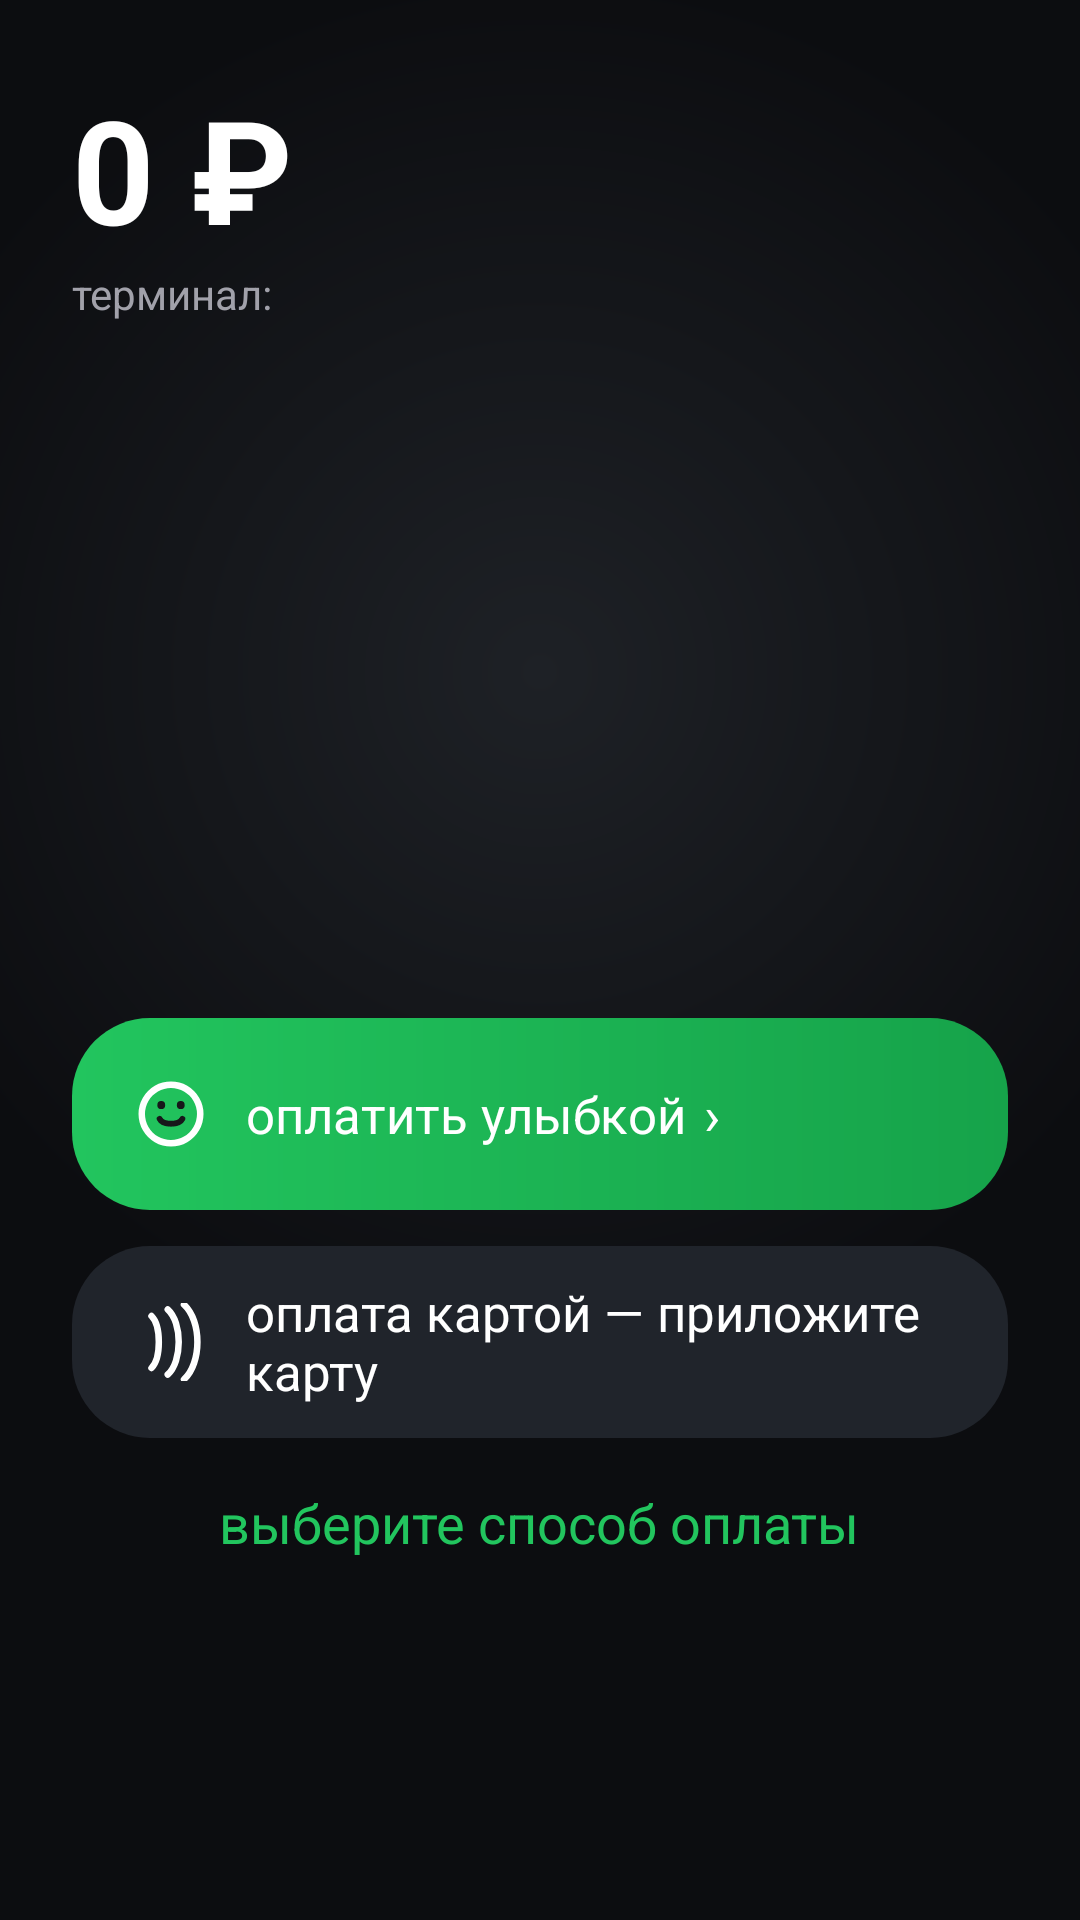

Icon click points for this 1080x1920 phone screenshot, format [x,y]:
NFC: [174,1342]
улыбка: [171,1114]
